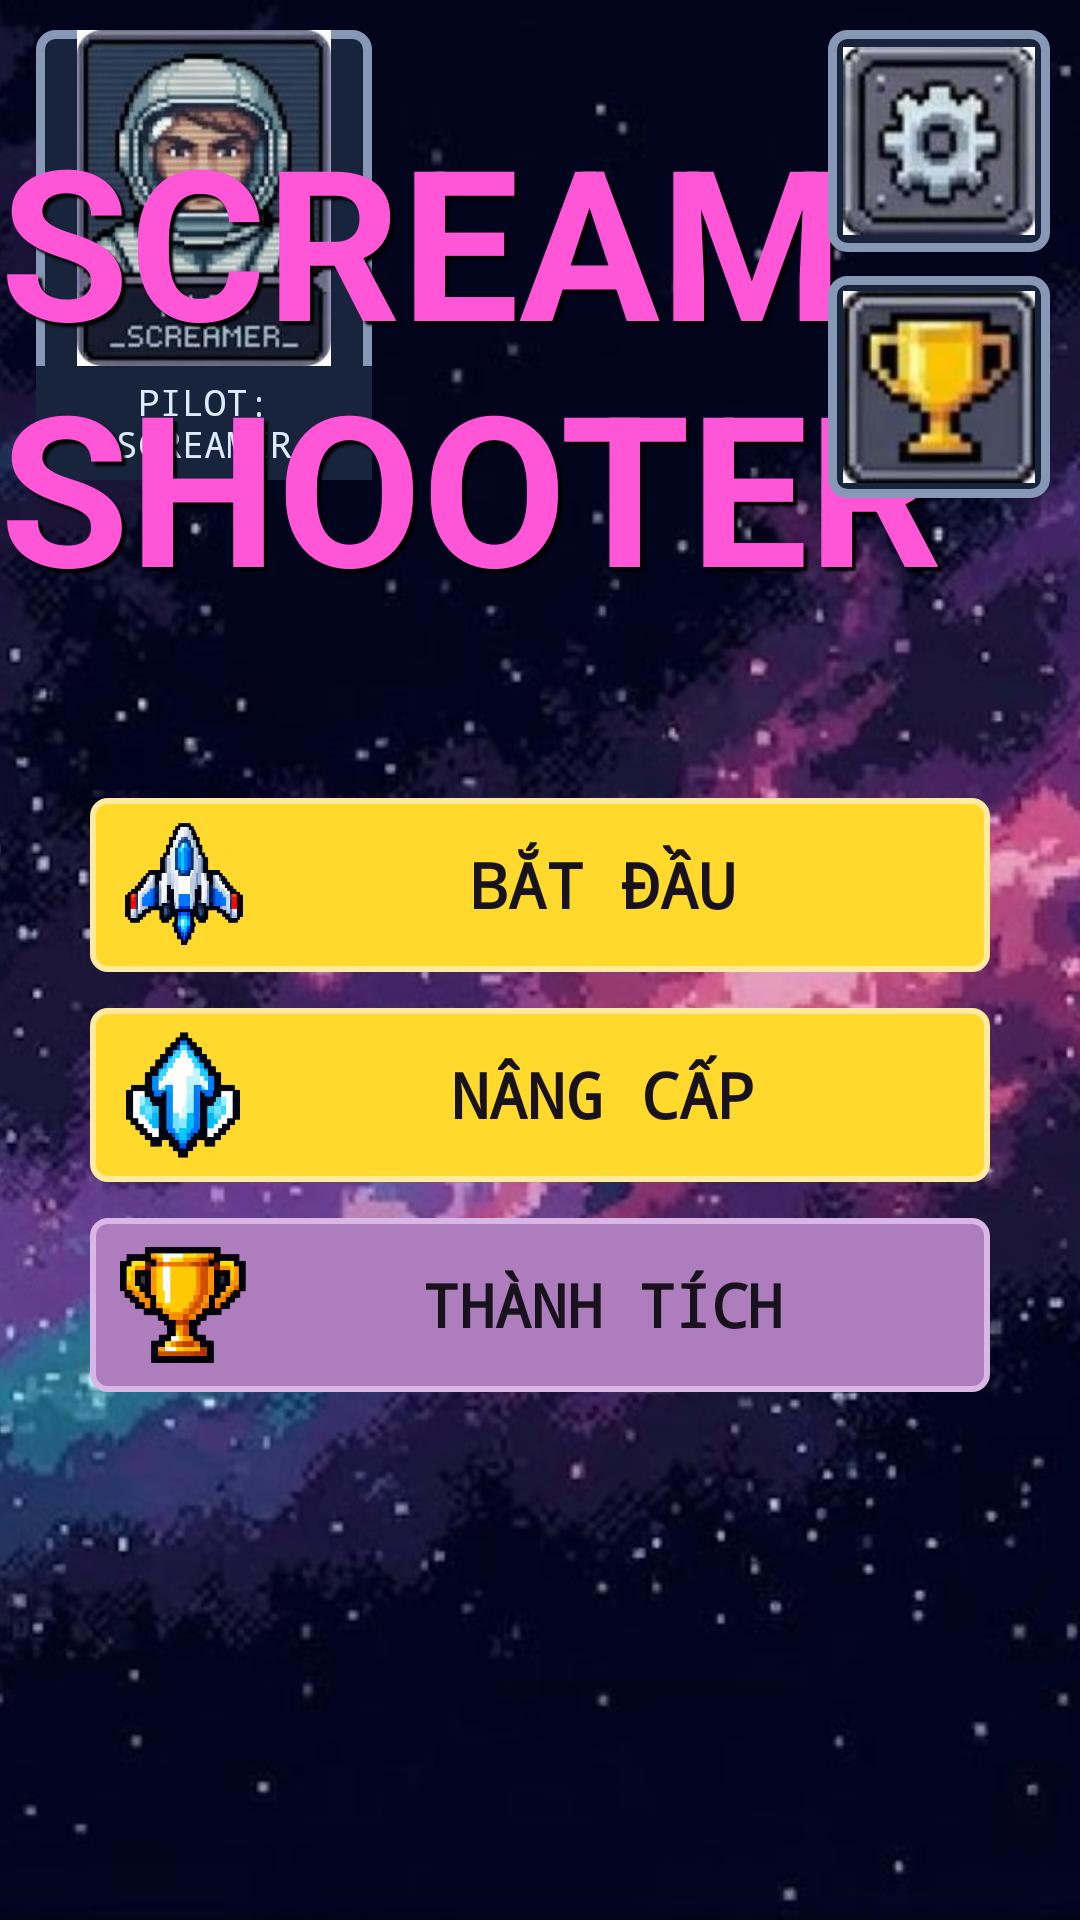

Point at icon controls on the screen. Image size 1080 x 1920, points as (x=x, y=y).
Bảng xếp hạng: (x=939, y=387)
Cài đặt: (x=939, y=141)
Tàu vũ trụ: (x=184, y=884)
